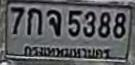3: (82, 10, 95, 36)
5: (68, 9, 80, 36)
7: (10, 6, 23, 33)
8: (97, 11, 110, 37), (112, 12, 124, 37)
A01: (26, 7, 41, 34)
A08: (46, 9, 60, 35)
BKK: (21, 43, 112, 62)
